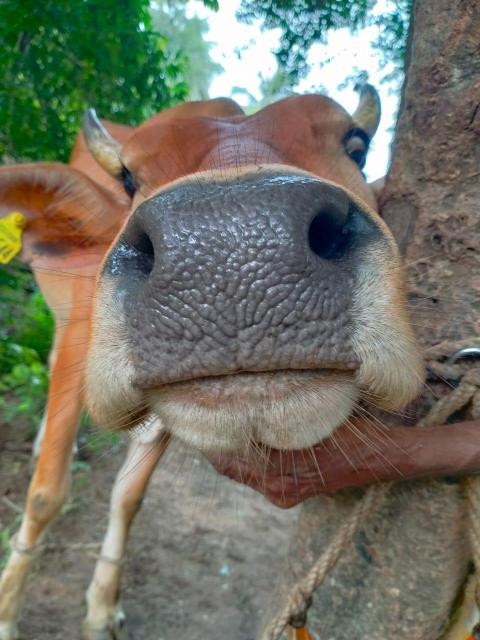Muzzle: (135, 204, 339, 370)
